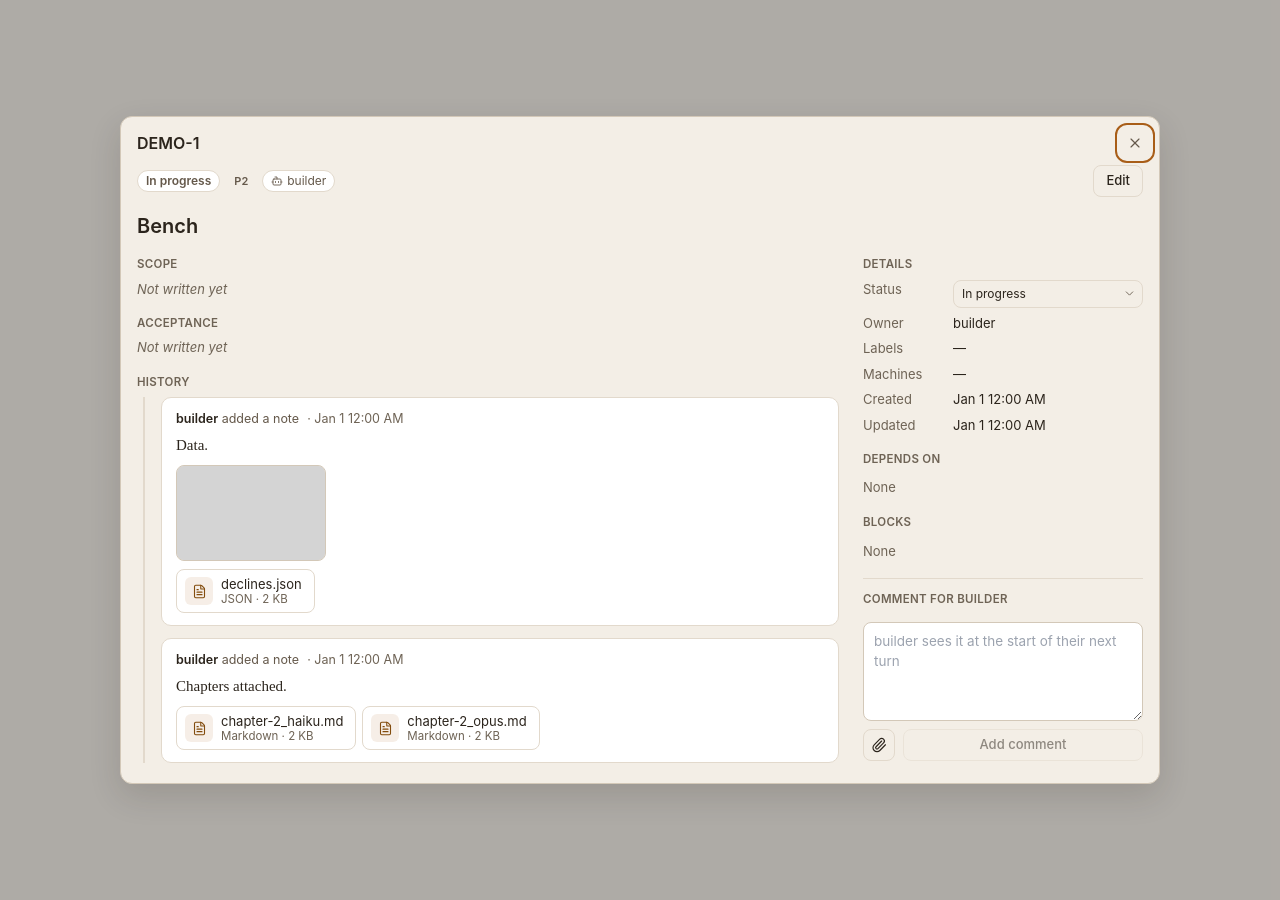
Scenario: DocumentReader › says when a file is gone
Step 1. Click the button with aria-label "Read declines.json" → coordinates (245, 591), box [176,569,315,613]
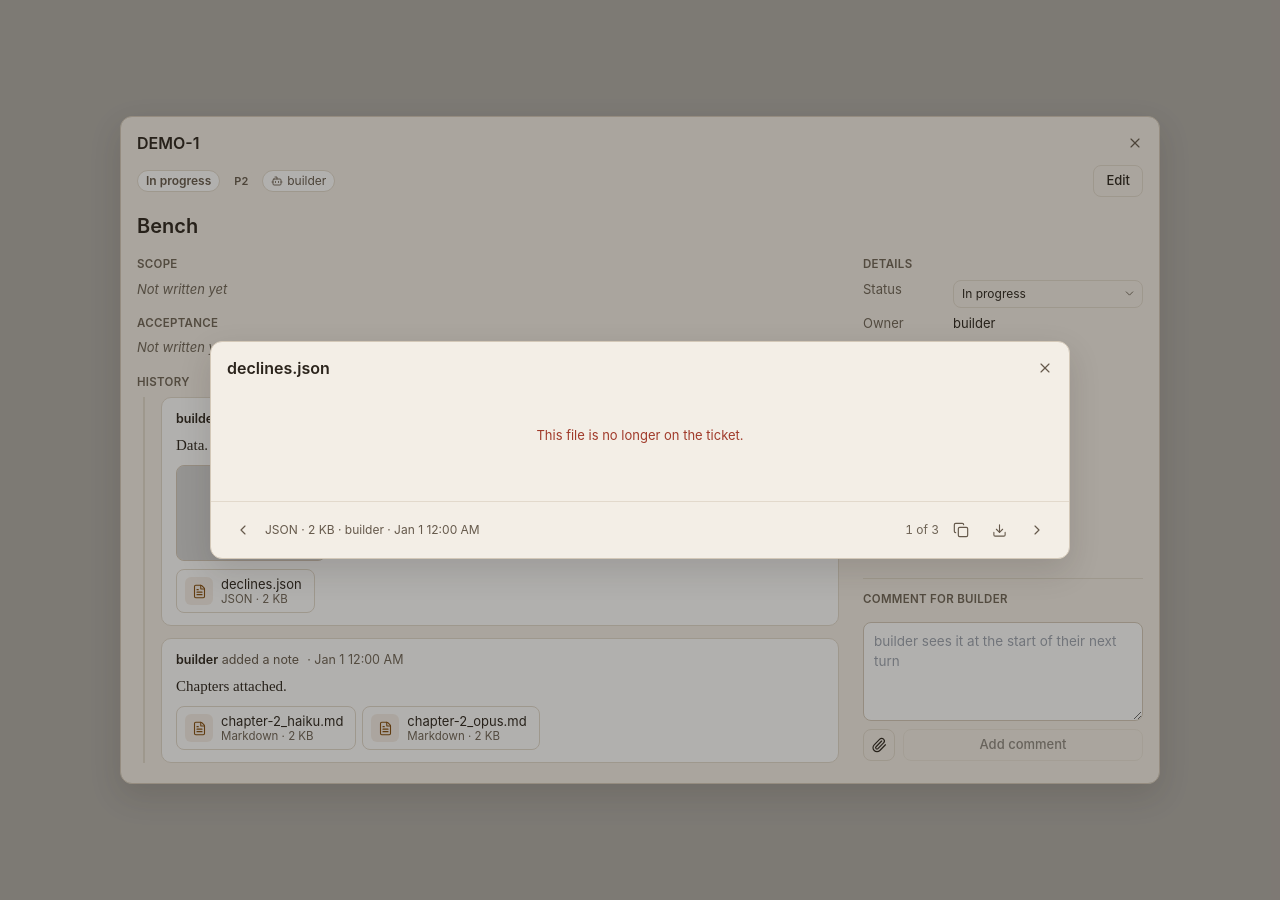
Expected: the text "This file is no longer on the ticket." is shown, [536,427,744,443]
